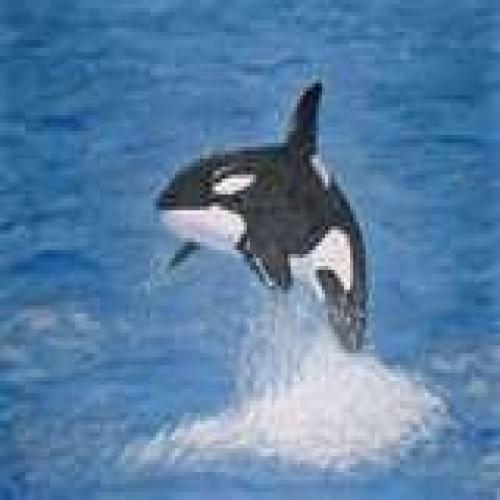killer_whale-endangered: (150, 80, 394, 362)
